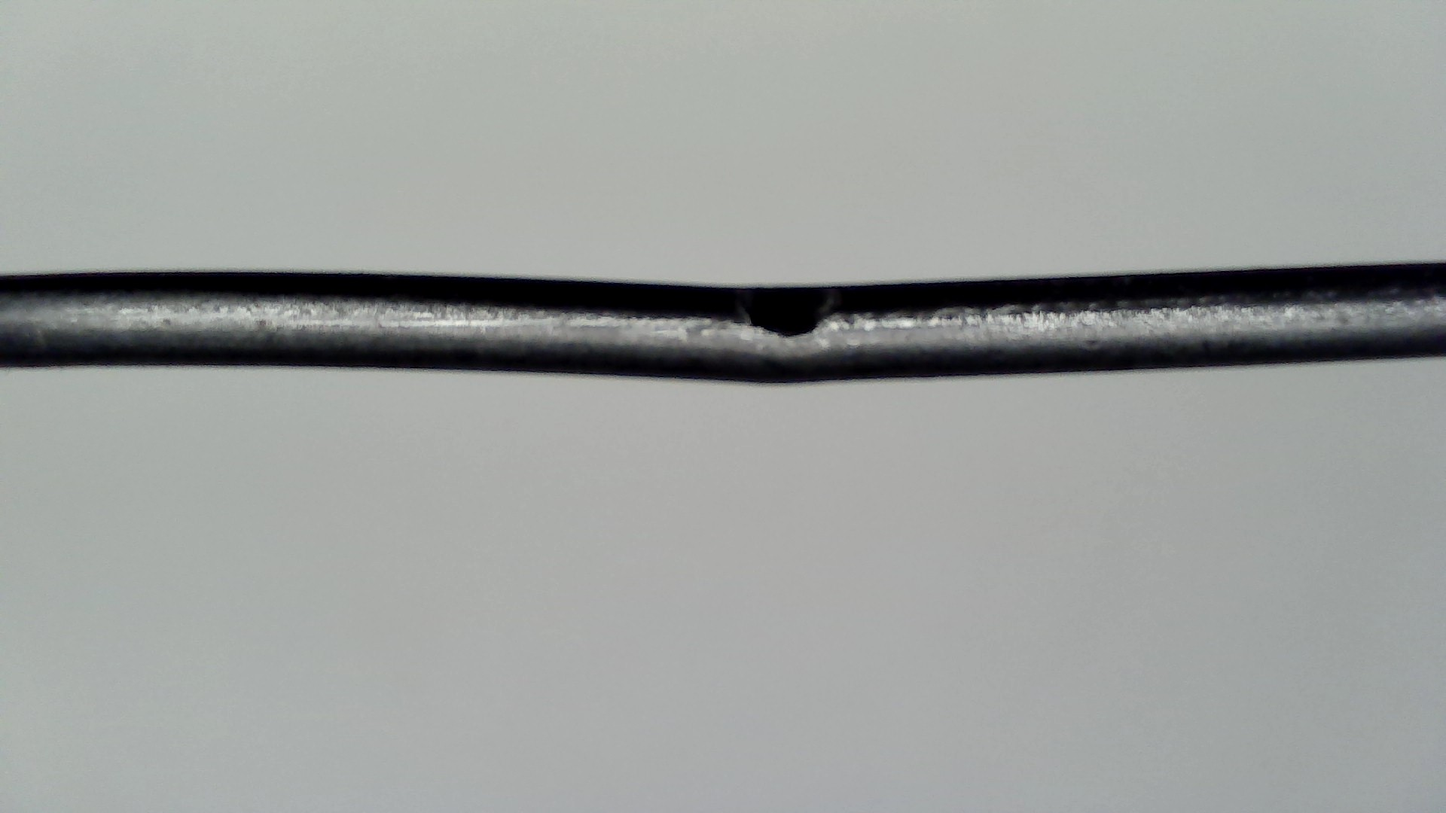defect: (720, 270, 1197, 336)
